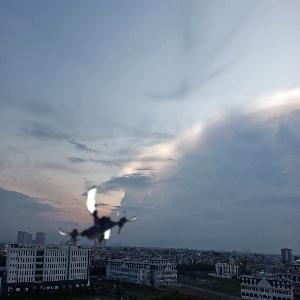drone: (60, 183, 139, 262)
